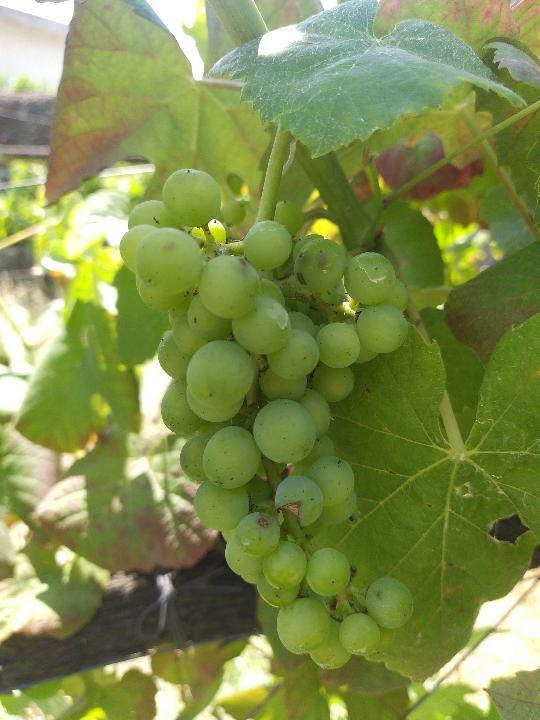grape: (115, 160, 420, 674)
